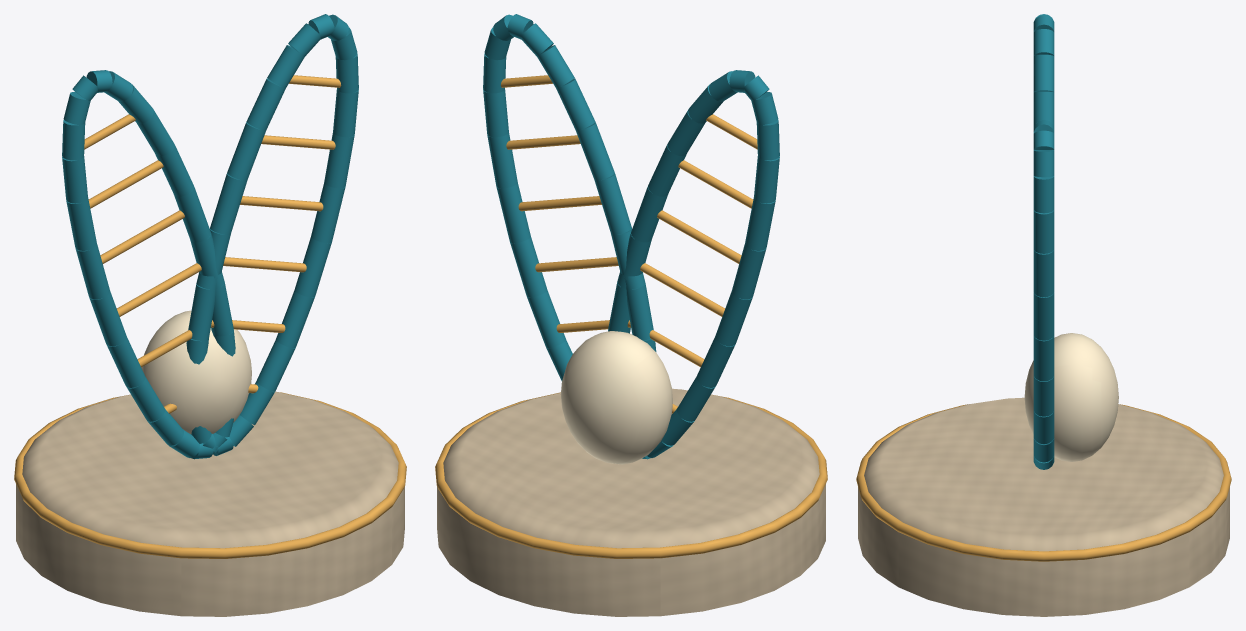
Rendered from winter_sprint.glb.
The picture shows the model from 3 angles, left to right: view 1: azimuth 30°, elevation 25°; view 2: azimuth 150°, elevation 25°; view 3: azimuth 270°, elevation 25°; orthographic projection. The views are drawn at different scales.
Parts seen in each view (by area): view 1: winter_sprint_lod0; view 2: winter_sprint_lod0; view 3: winter_sprint_lod0.
Part boxes in pixels (box(x1,y1,x2,y2)): winter_sprint_lod0: box(14, 14, 406, 616); winter_sprint_lod0: box(435, 14, 827, 616); winter_sprint_lod0: box(856, 14, 1231, 616).
Size of what is drawn, in the model's own units: 6.77 by 9.31 by 6.77.
4 materials, 4 textured.
